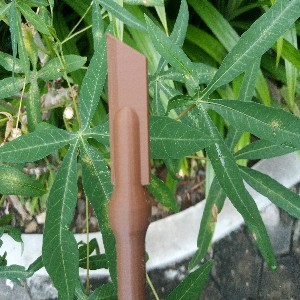cutter: (104, 29, 149, 300)
